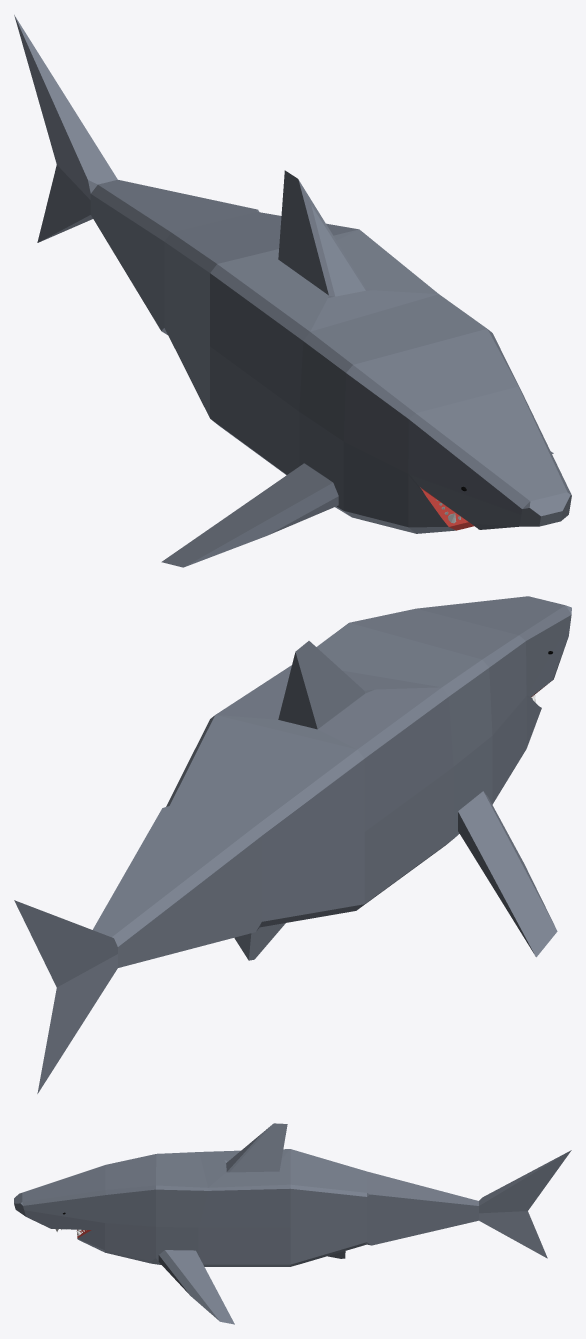
File: Shark.glb
The picture shows the model from 3 angles, top to bottom: view 1: azimuth 30°, elevation 25°; view 2: azimuth 150°, elevation 25°; view 3: azimuth 270°, elevation 25°; orthographic projection. The views are drawn at different scales.
Visible parts, largest first — view 1: BODY; view 2: BODY; view 3: BODY.
Boxes of the visible parts, x1=… form: BODY: x1=14, y1=15, x2=571, y2=567; BODY: x1=14, y1=596, x2=571, y2=1093; BODY: x1=14, y1=1123, x2=571, y2=1324.
Size of what is drawn, in the model's own units: 2.13 by 1.6 by 5.16.
